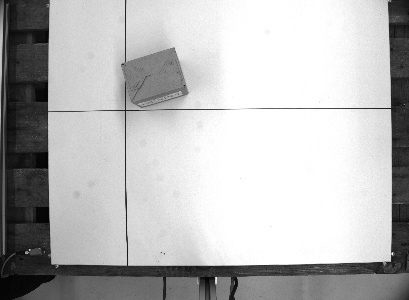b5: (118, 45, 193, 110)
